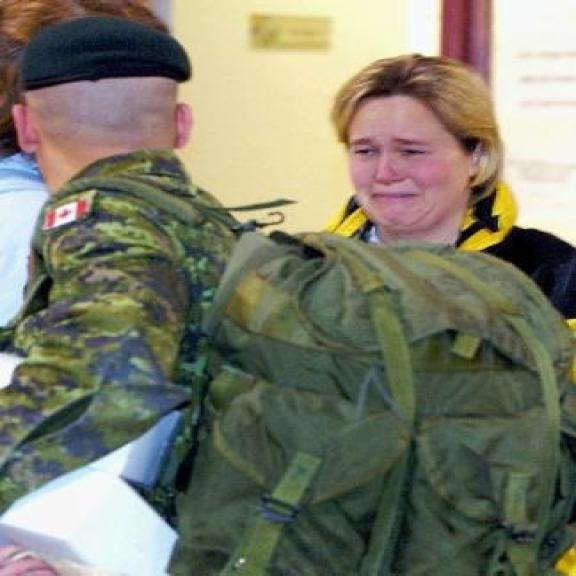face: (350, 91, 494, 236)
